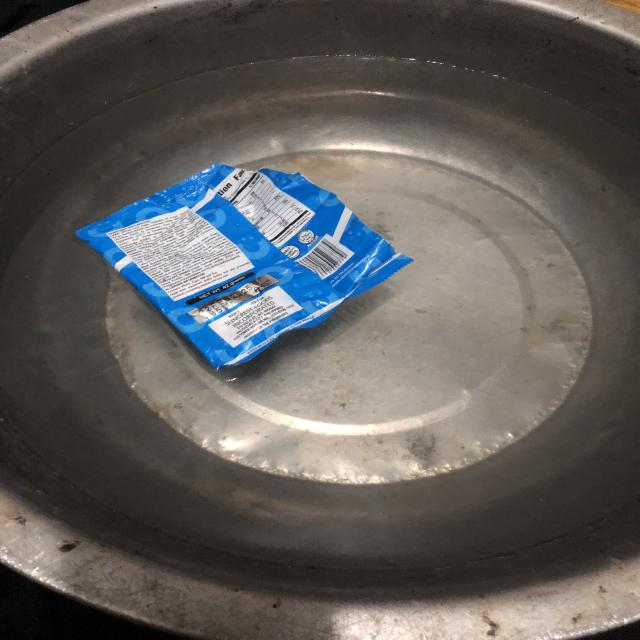Plastic Wrapper: (74, 161, 406, 374)
